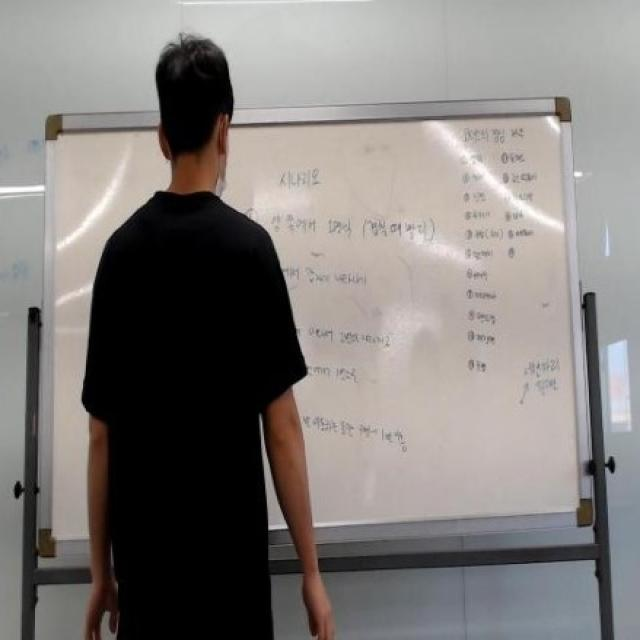Instructor: (104, 35, 269, 557)
White-board: (49, 107, 585, 549)
